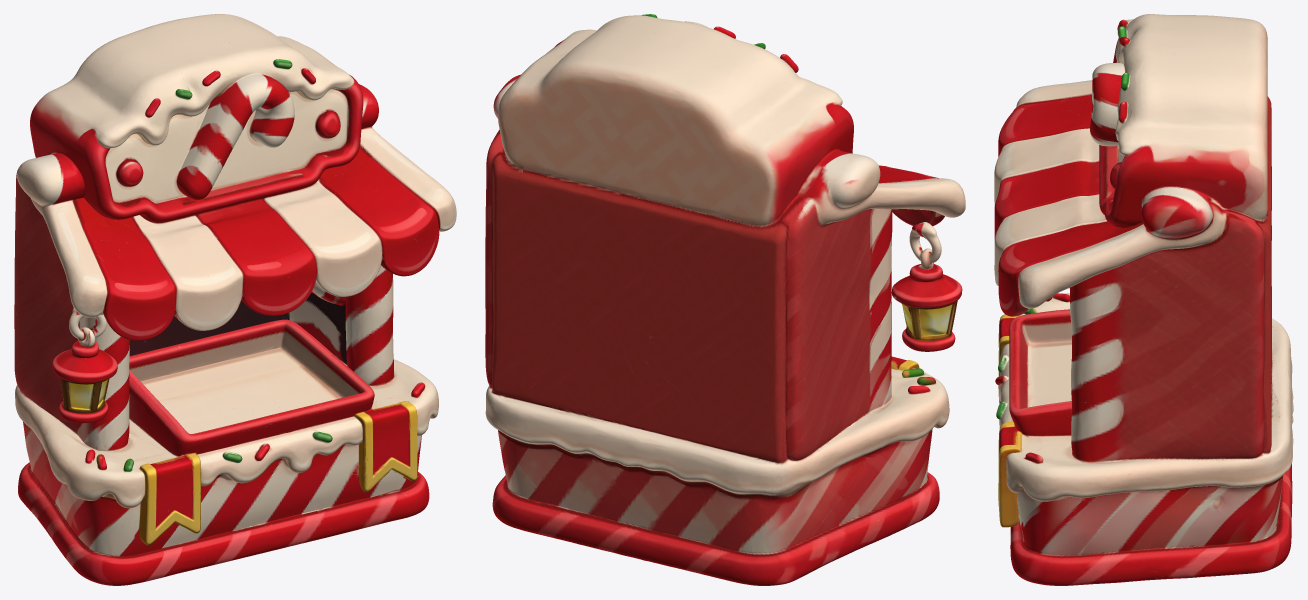
File: shop_candies.glb
3 views of the same model, side by side, from view 1: azimuth 30°, elevation 25°; view 2: azimuth 150°, elevation 25°; view 3: azimuth 270°, elevation 25° (orthographic). The views are drawn at different scales.
Size of the model in its own units: 1.73 by 1.9 by 1.11.
Materials: 1 (1 with a texture image).
